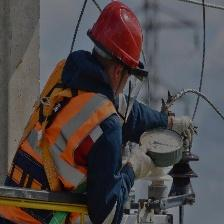Person: (1, 1, 153, 224)
helmet: (87, 1, 144, 66)
vest: (33, 61, 106, 224)
